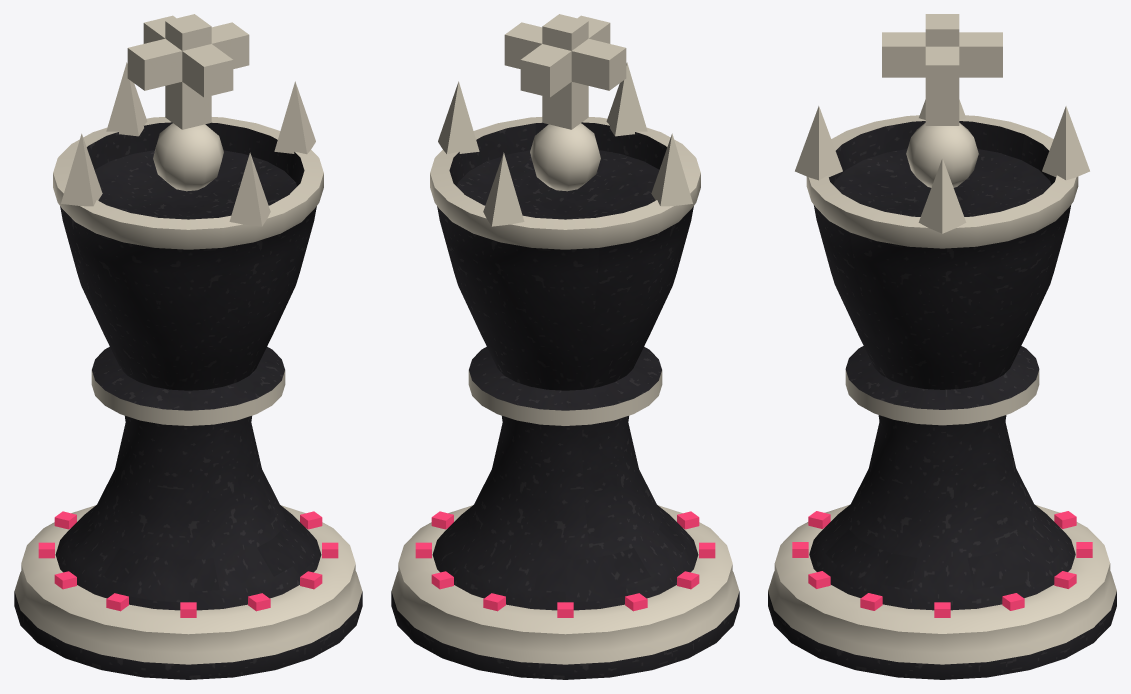
File: king_dark.glb
3 renders of one model, left to right at view 1: azimuth 30°, elevation 25°; view 2: azimuth 150°, elevation 25°; view 3: azimuth 270°, elevation 25°, orthographic.
Visible parts, largest first — view 1: Piece_King_Dark_Mesh; view 2: Piece_King_Dark_Mesh; view 3: Piece_King_Dark_Mesh.
Boxes of the visible parts, box(x1,y1,x2,y2) form: Piece_King_Dark_Mesh: box(14, 14, 362, 679); Piece_King_Dark_Mesh: box(391, 14, 739, 679); Piece_King_Dark_Mesh: box(768, 14, 1116, 679).
Bounding box in the file's own units: 0.72 × 1.33 × 0.72.
3 materials, 1 textured.
